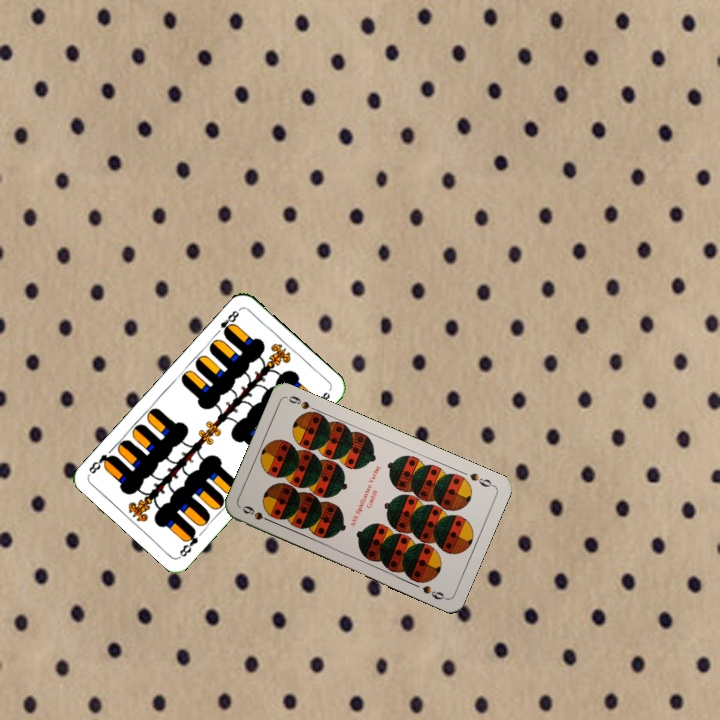E8: (211, 306, 242, 339), (175, 525, 201, 560)
S9: (238, 502, 276, 526), (465, 469, 497, 490)
